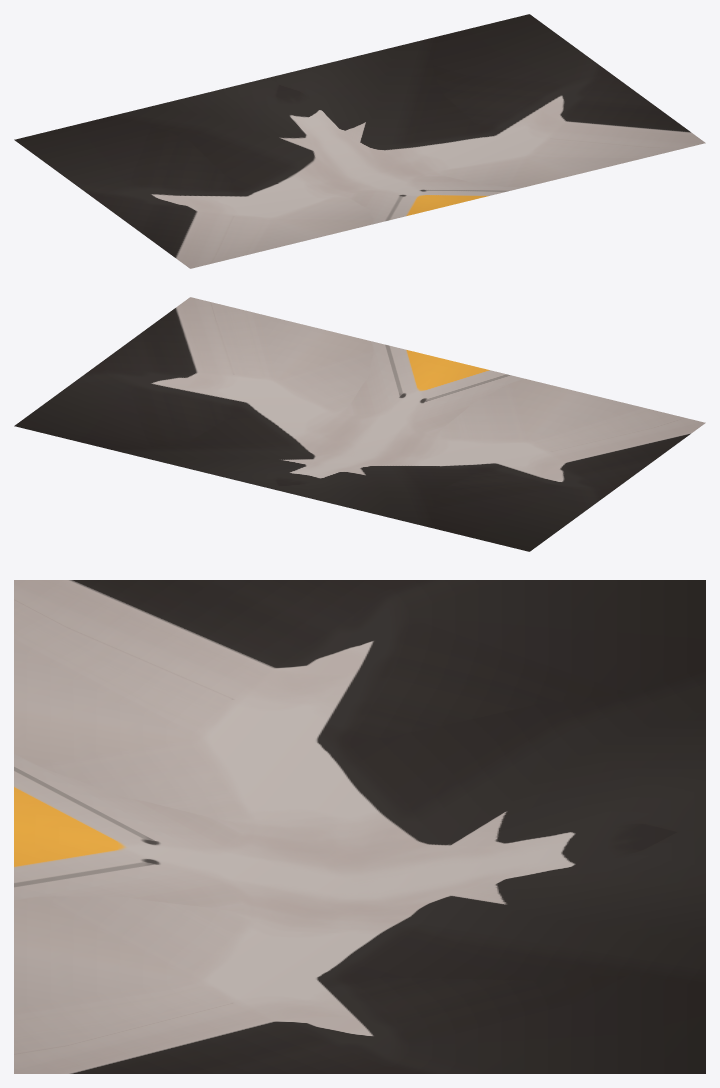
Rendered from SM_VFX_Bird_01.fbx.
3 renders of one model, top to bottom at view 1: azimuth 30°, elevation 25°; view 2: azimuth 150°, elevation 25°; view 3: azimuth 270°, elevation 25°, orthographic. The views are drawn at different scales.
Parts seen in each view (by area): view 1: SM_VFX_Bird_01; view 2: SM_VFX_Bird_01; view 3: SM_VFX_Bird_01.
Boxes of the visible parts, x1=… form: SM_VFX_Bird_01: x1=14, y1=14, x2=705, y2=268; SM_VFX_Bird_01: x1=14, y1=297, x2=705, y2=551; SM_VFX_Bird_01: x1=14, y1=580, x2=705, y2=1073.
Size of the model in its own units: 90.54 by 5.38 by 53.63.
